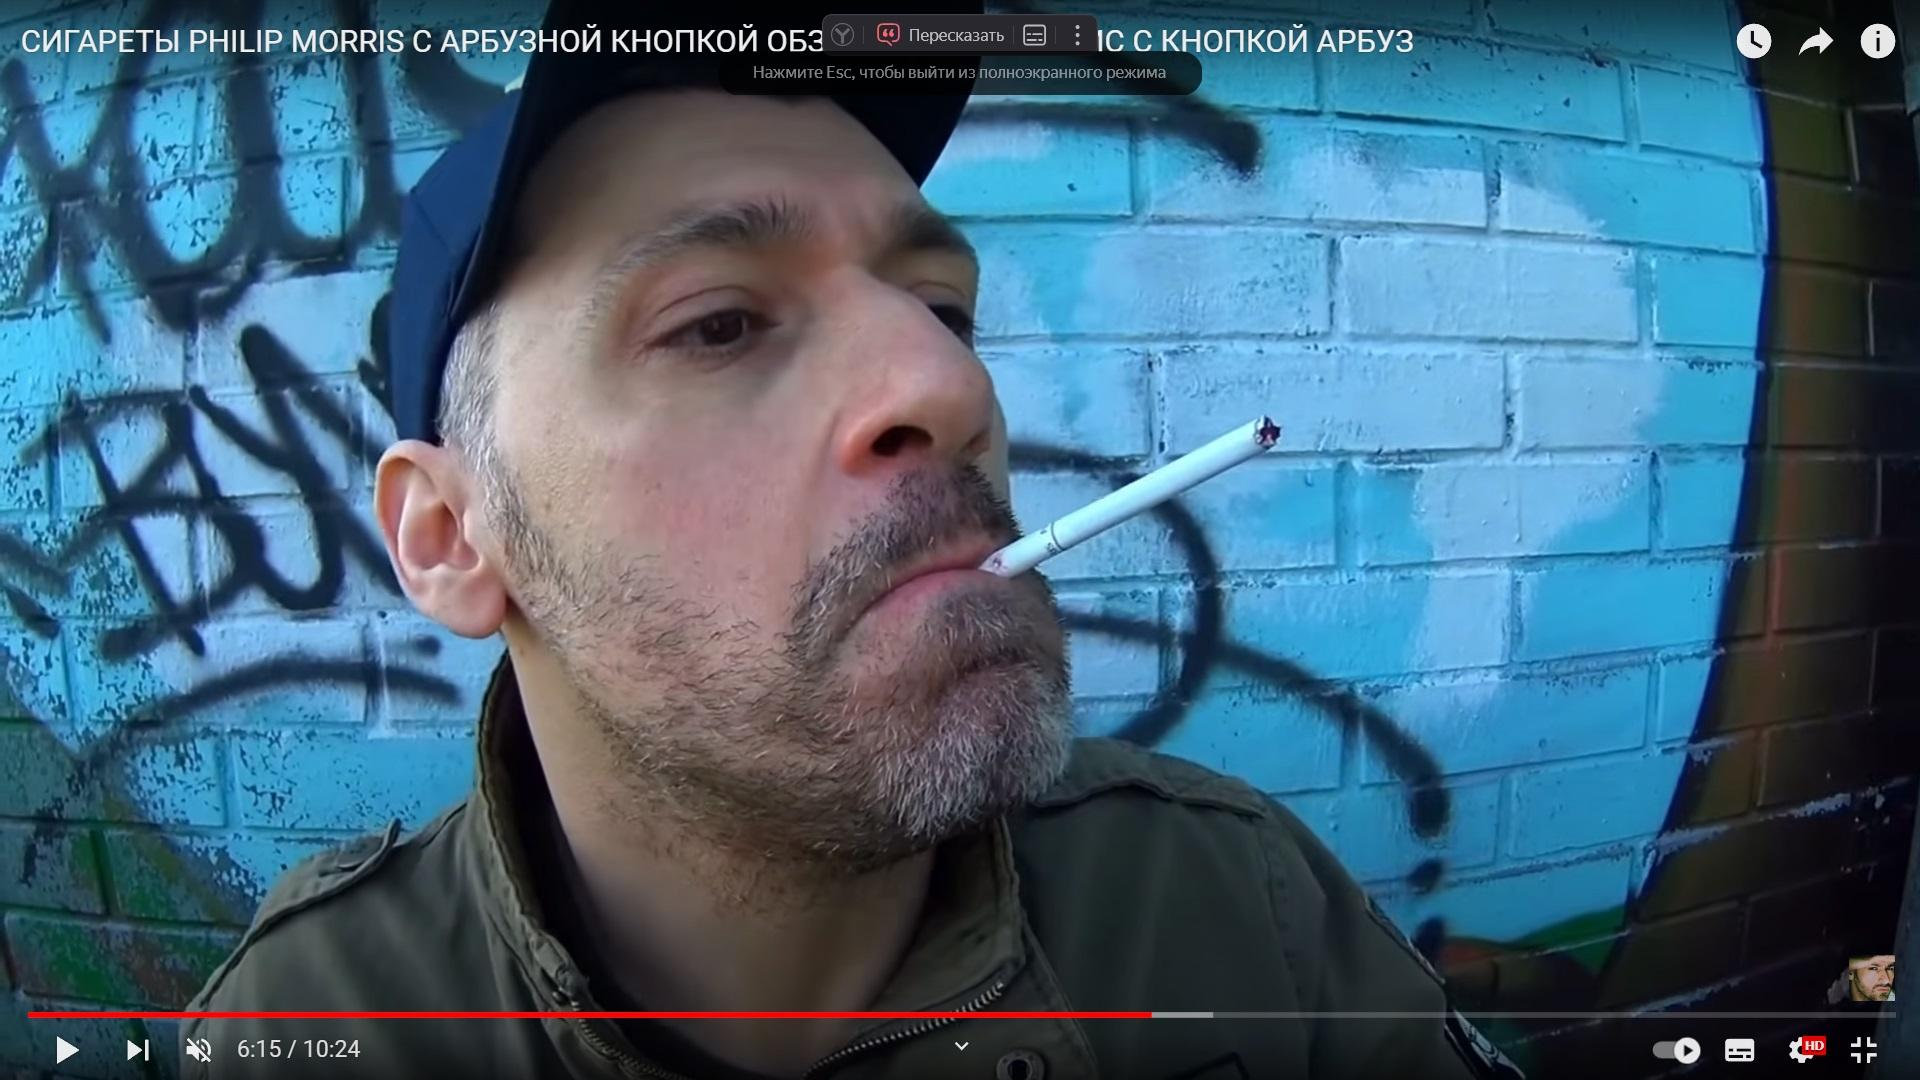cigarette: (976, 415, 1282, 578)
